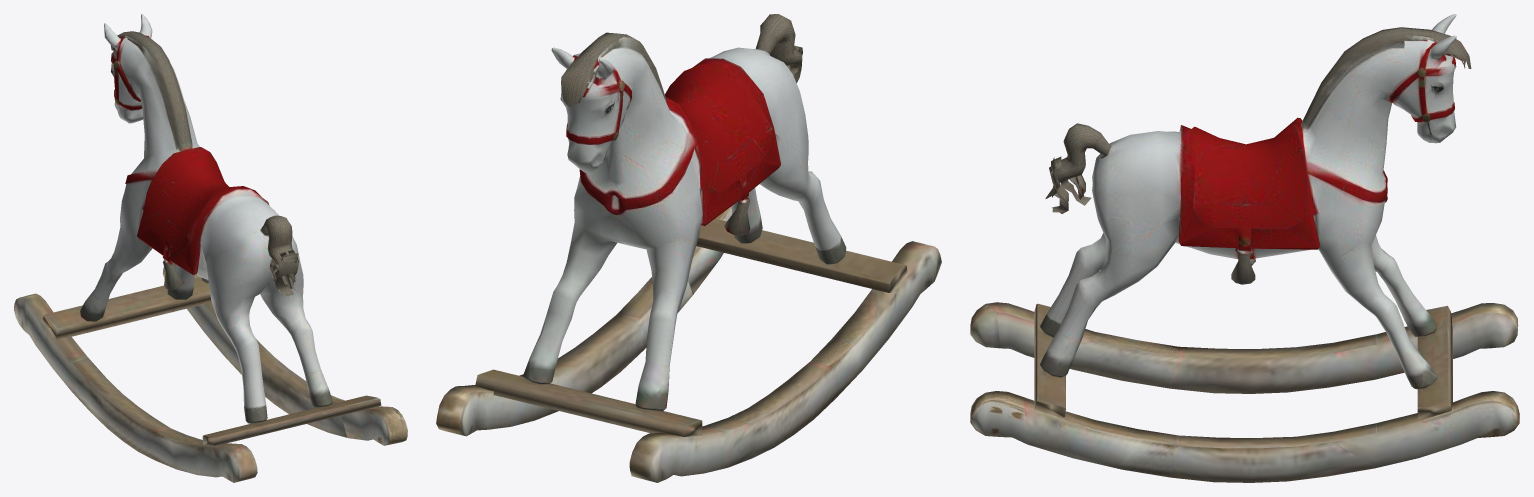
Rendered from office-rocking-horse.glb.
The picture shows the model from 3 angles, left to right: view 1: azimuth 30°, elevation 25°; view 2: azimuth 150°, elevation 25°; view 3: azimuth 270°, elevation 25°; orthographic projection. The views are drawn at different scales.
Visible parts, largest first — view 1: rocking-horse; view 2: rocking-horse; view 3: rocking-horse.
Boxes of the visible parts, left/top/right/bottom form: rocking-horse: left=14, top=14, right=407, bottom=482; rocking-horse: left=436, top=14, right=941, bottom=482; rocking-horse: left=970, top=14, right=1519, bottom=482.
Bounding box in the file's own units: 0.5139 × 0.9856 × 1.2.
Materials: 1 (1 with a texture image).
